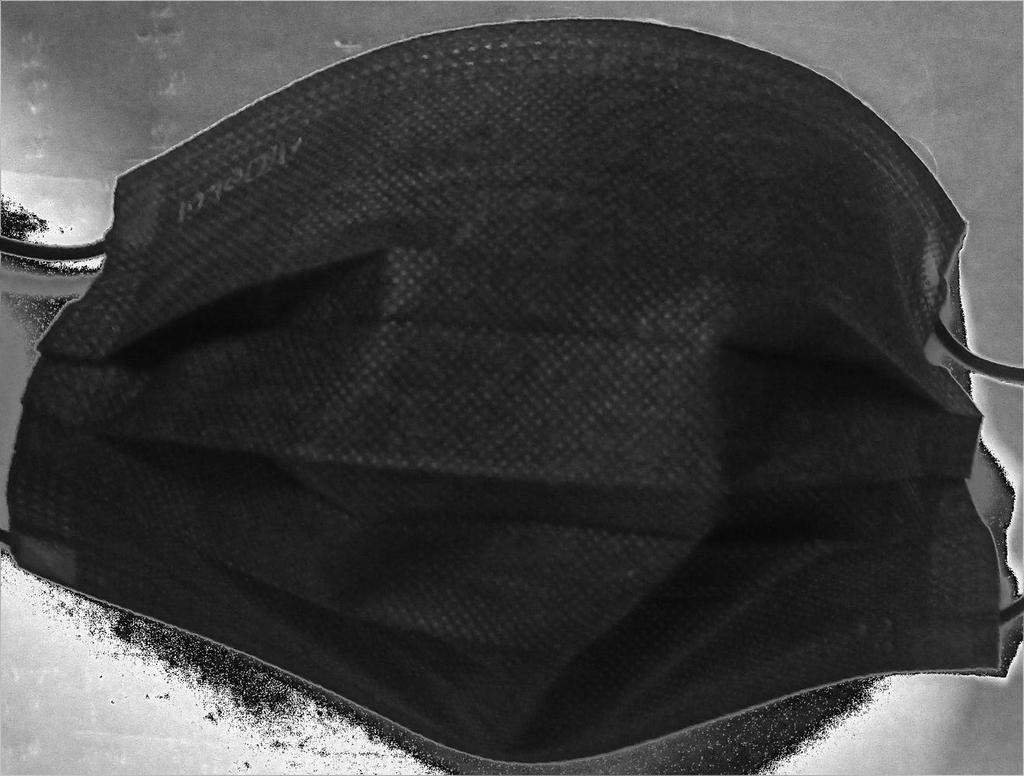Low GSM: (65, 54, 1023, 770)
